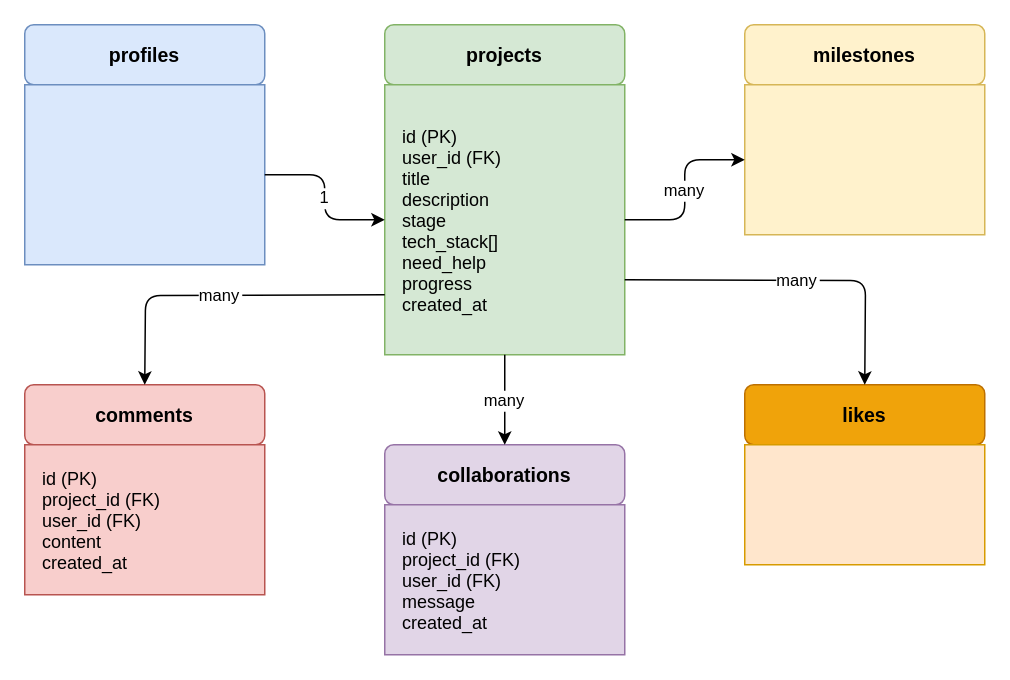
Image size: 1010x680. Some labels were removed from this diagram. Each missing label, with the box of its shape:
id (PK) project_id (FK) title status created_at: (743, 83, 985, 235)
id (PK) project_id (FK) user_id (FK) created_at: (743, 443, 985, 565)
id (PK) username full_name avatar_url bio created_at: (23, 83, 265, 265)
